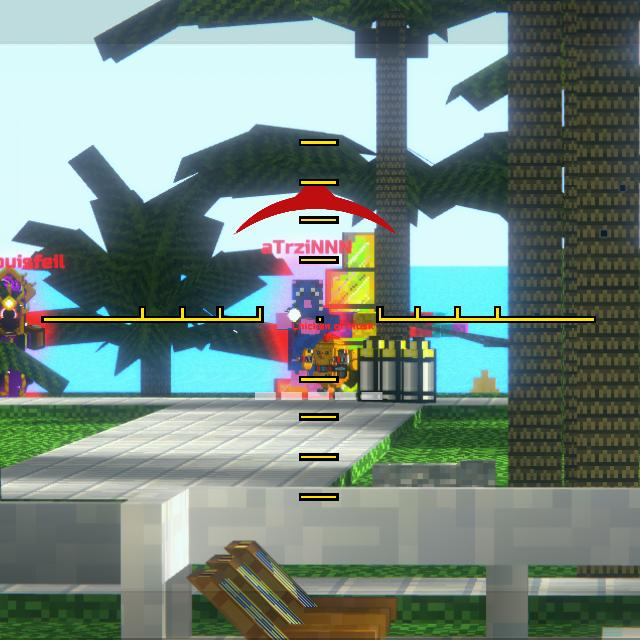Enemy: (276, 279, 340, 392), (0, 274, 45, 398)
